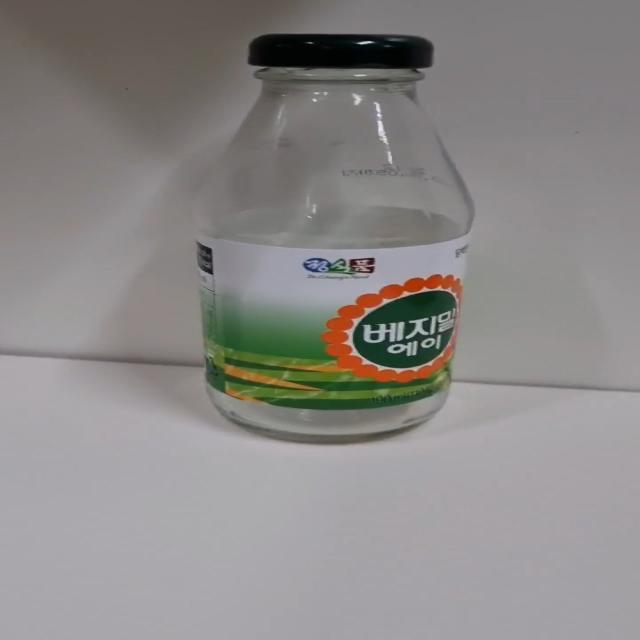Glass: (192, 34, 476, 448)
